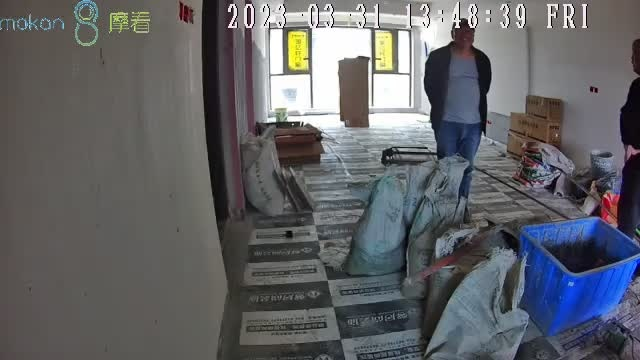people: (425, 18, 491, 222)
window: (267, 25, 415, 109)
